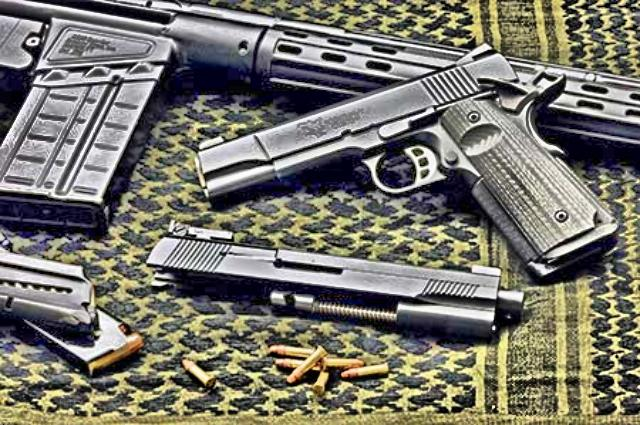pistol: (193, 38, 622, 272)
